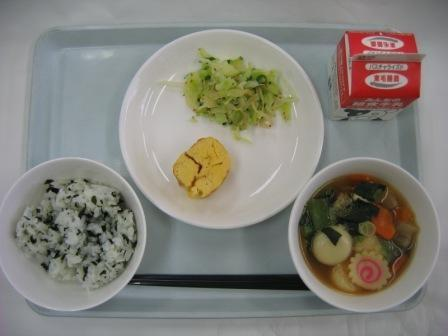Fish: (172, 50, 290, 139)
Milk: (317, 25, 433, 130)
Rice: (2, 156, 163, 315)
Soups: (286, 160, 447, 294)
cookies: (170, 141, 258, 200)
